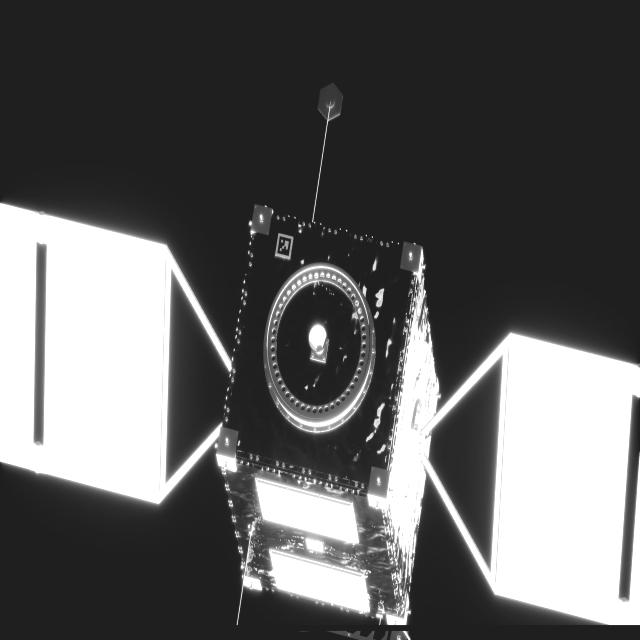medium_debris: (0, 203, 640, 640)
